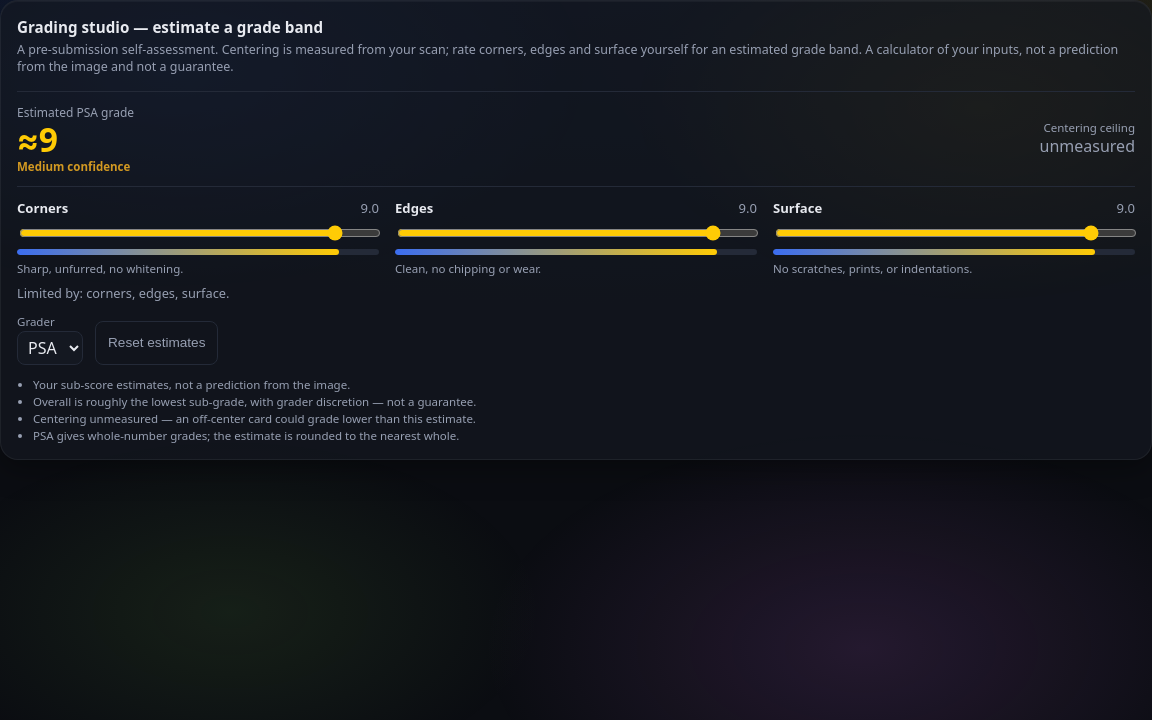
Test case: GradingStudio › reset restores the default sub-scores
The image size is (1152, 720).
Set the slider labelled "Surface 9.0 No scratches, prints, or indentations." to "7" at point(1014, 233), box [775,225,1137,241]
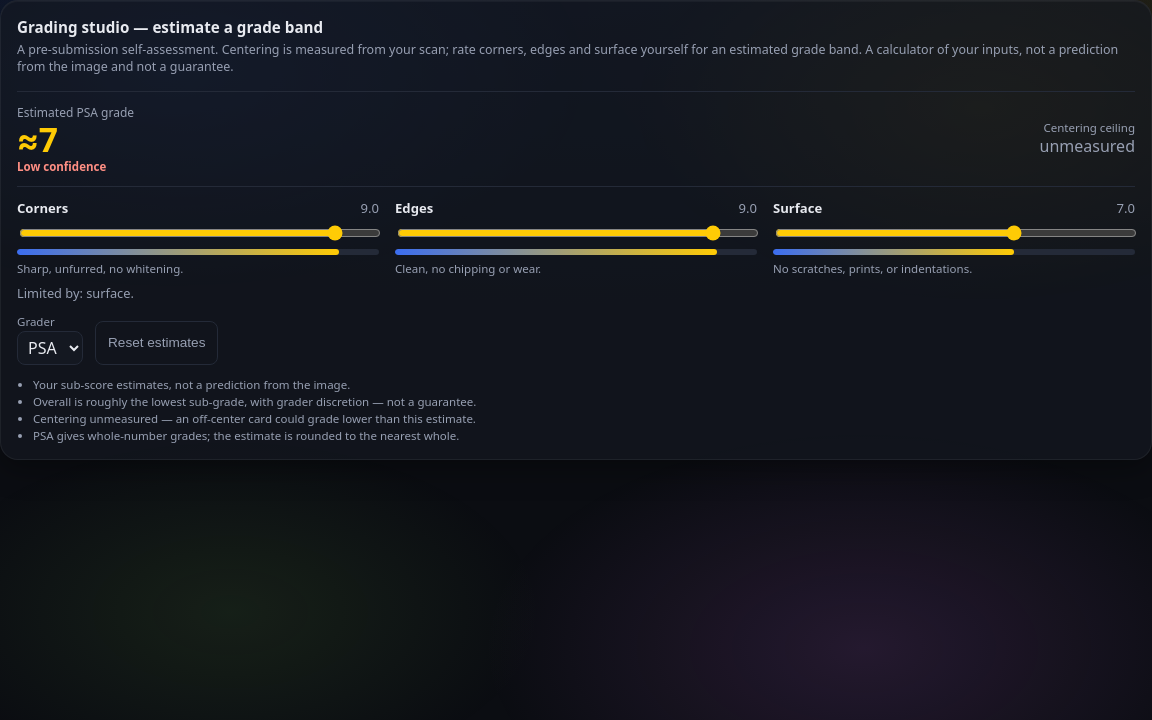
Now the text "≈7" is shown, box [17,116,58,162]
Click the button "Reset estimates" at point(157, 343), box [95,321,218,365]
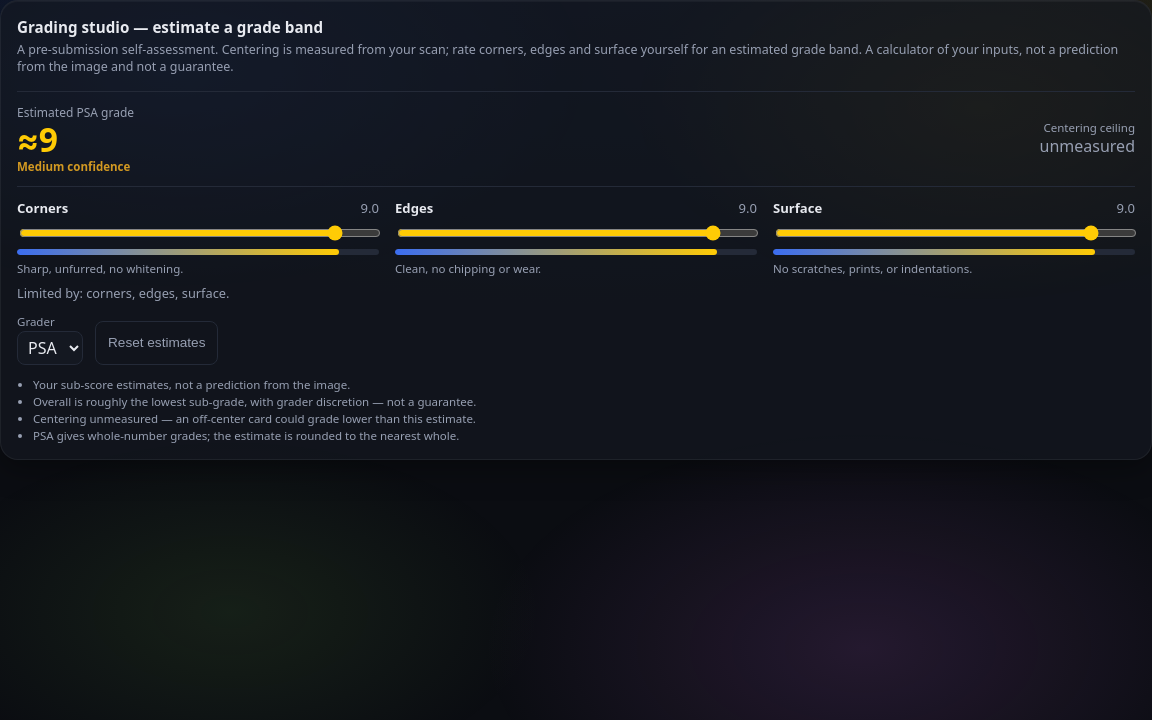
Now the text "≈9" is shown, box [17,116,58,162]
